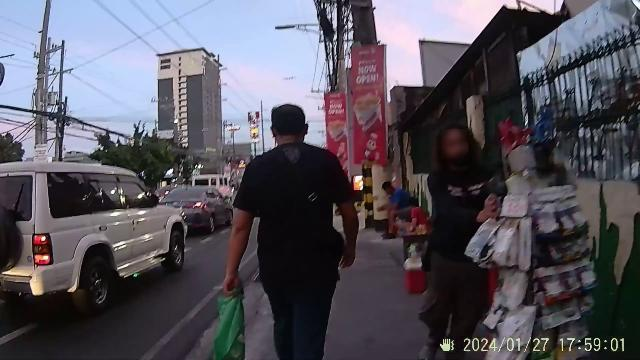street_vendor_cart: (484, 144, 618, 360), (386, 202, 434, 258)
